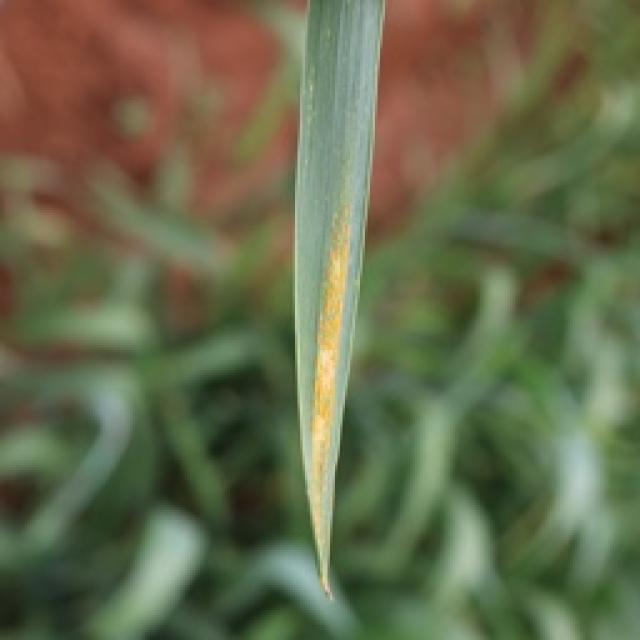Black Rust: (288, 0, 388, 598)
Healthy Wheat: (0, 0, 638, 638)
